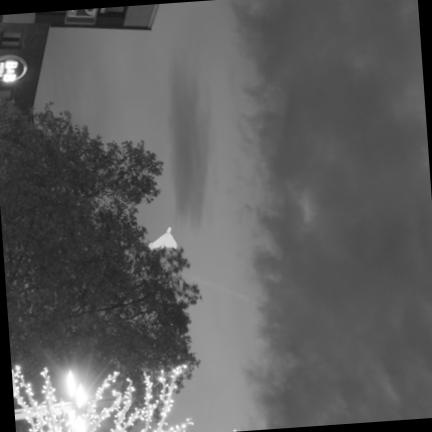Shahed: (148, 227, 175, 249)
